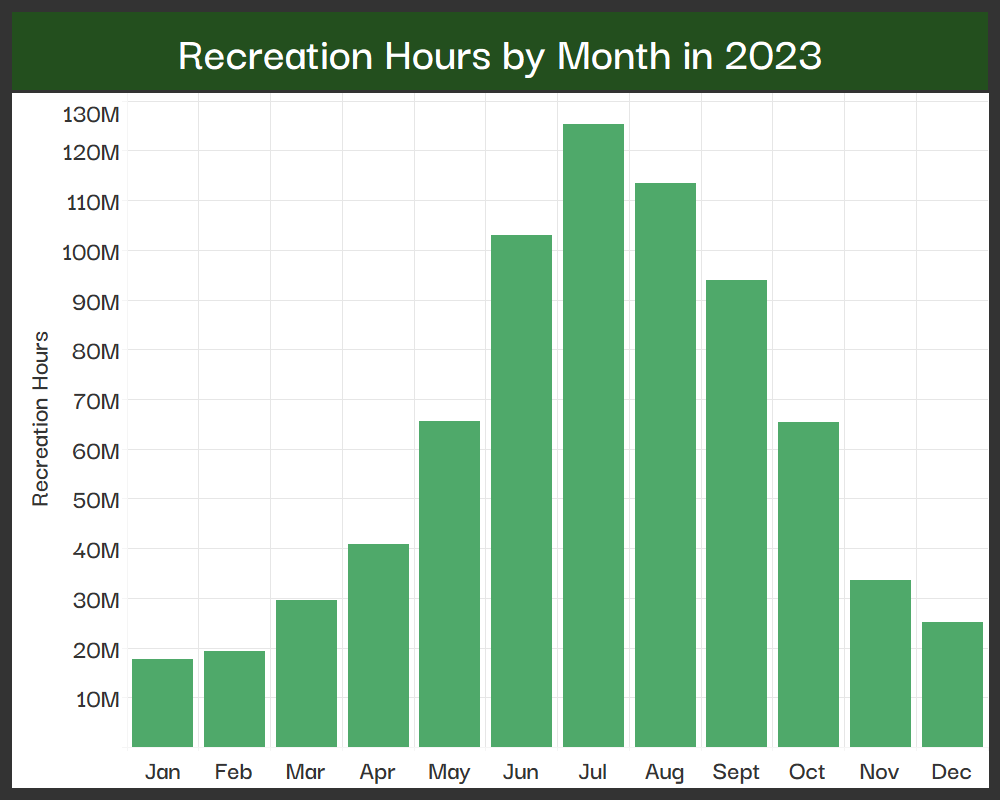

The page's visual inventory and layout, read from the dashboard file:
{"tool":"tableau","page":{"name":"RH by Month","canvas":[1000,800],"ordinal":1},"visuals":[{"type":"worksheet","title":"Recreation Hours by Month in 2023","mark":"Automatic","rows":["RecreationHours"],"cols":["Month"],"box":[8,8,984,784]}]}

Visuals, with their boxes in screenshot pixels (x1, y1, x2, y2), scaled from the page's 1000x800 canvas onto the 1000x800 screenshot:
"Recreation Hours by Month in 2023" worksheet: rect(8, 8, 992, 792)
